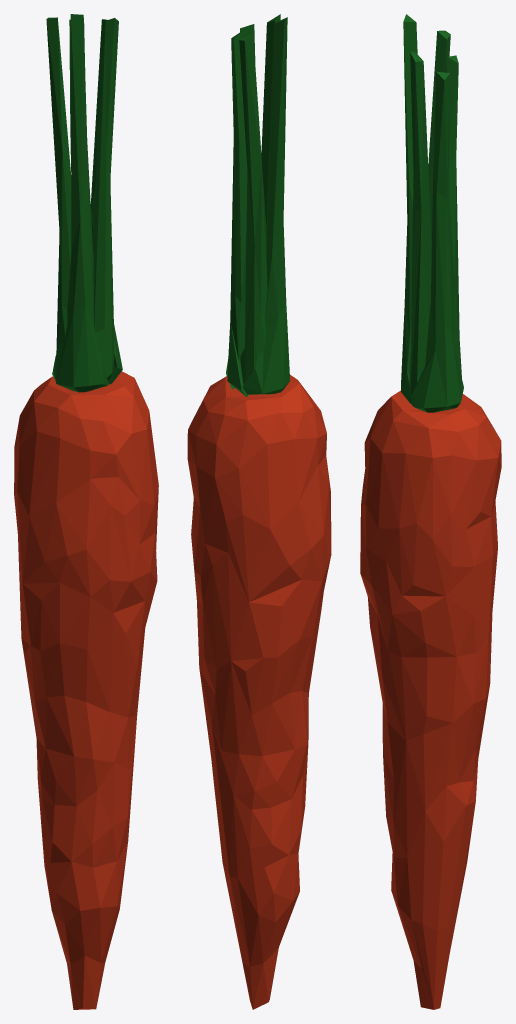
The model's file is Carrot.FBX.
3 renders of one model, left to right at view 1: azimuth 90°, elevation 25°; view 2: azimuth 150°, elevation 25°; view 3: azimuth 330°, elevation 25°, orthographic. The views are drawn at different scales.
Visible parts, largest first — view 1: Carrot, Tail; view 2: Carrot, Tail; view 3: Carrot, Tail.
Boxes of the visible parts, x1,y1,x2,y2 form: Carrot: (14,371,158,1009); Tail: (46,14,122,392); Carrot: (187,375,331,1009); Tail: (226,14,289,397); Carrot: (360,390,501,1009); Tail: (401,14,463,412).
Size of the model in its own units: 31.18 by 236 by 30.55.
